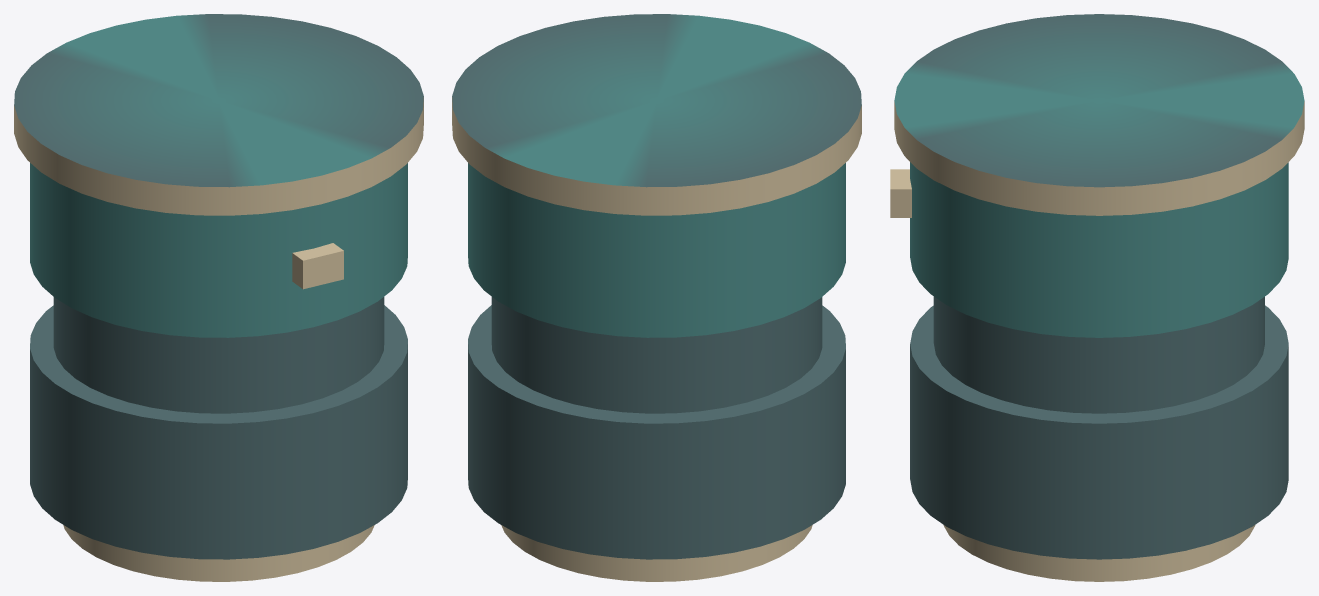
The model's file is KC32__AD_Int_Nightstand.glb.
The picture shows the model from 3 angles, left to right: view 1: azimuth 30°, elevation 25°; view 2: azimuth 150°, elevation 25°; view 3: azimuth 270°, elevation 25°; orthographic projection.
Parts seen in each view (by area): view 1: KC32_CORPS__AD_Int_Nightstand, KC32_BRONZE__AD_Int_Nightstand; view 2: KC32_CORPS__AD_Int_Nightstand, KC32_BRONZE__AD_Int_Nightstand; view 3: KC32_CORPS__AD_Int_Nightstand, KC32_BRONZE__AD_Int_Nightstand.
Boxes of the visible parts, box(x1,y1,x2,y2) form: KC32_CORPS__AD_Int_Nightstand: box(14, 14, 423, 559); KC32_BRONZE__AD_Int_Nightstand: box(14, 97, 423, 581); KC32_CORPS__AD_Int_Nightstand: box(452, 14, 861, 559); KC32_BRONZE__AD_Int_Nightstand: box(452, 97, 861, 581); KC32_CORPS__AD_Int_Nightstand: box(894, 14, 1304, 559); KC32_BRONZE__AD_Int_Nightstand: box(890, 101, 1304, 581).
Bounding box in the file's own units: 0.52 × 0.58 × 0.525.
